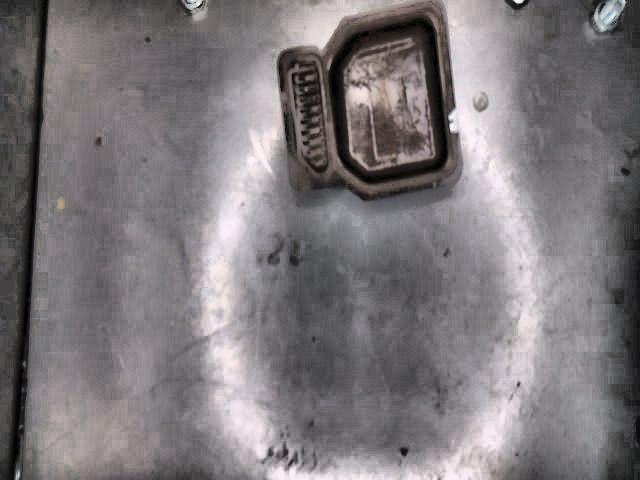Plastic: (277, 0, 464, 201)
